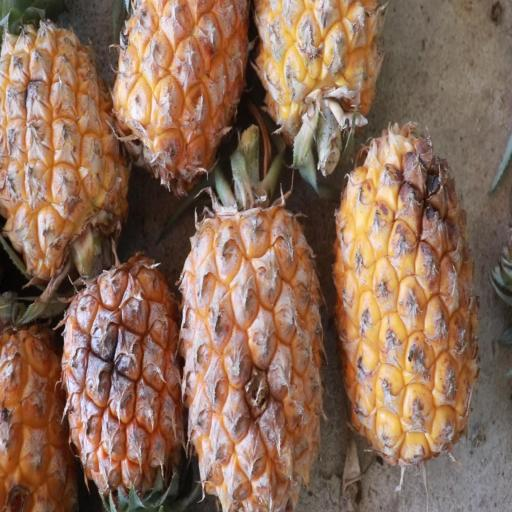Pineapple - v8 v1: (184, 149, 337, 512), (331, 123, 484, 475), (0, 0, 134, 289), (55, 245, 179, 512), (108, 0, 248, 189), (253, 0, 389, 165), (0, 292, 83, 509)
